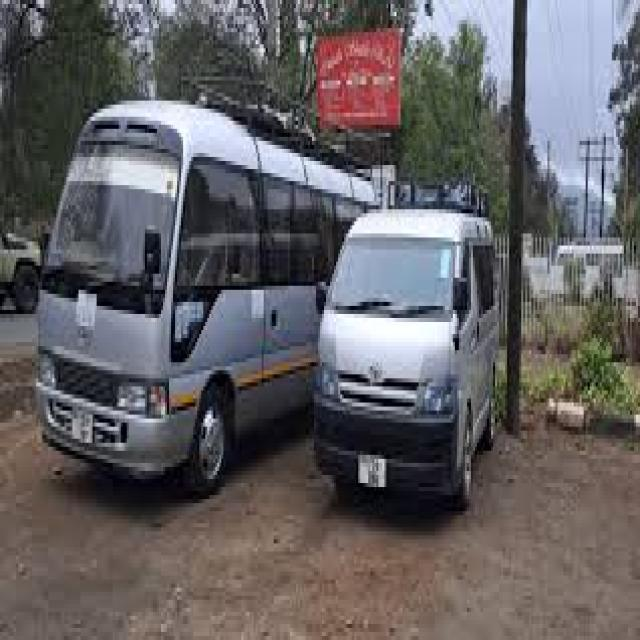bus: (23, 81, 310, 508)
matatu: (328, 190, 518, 510)
